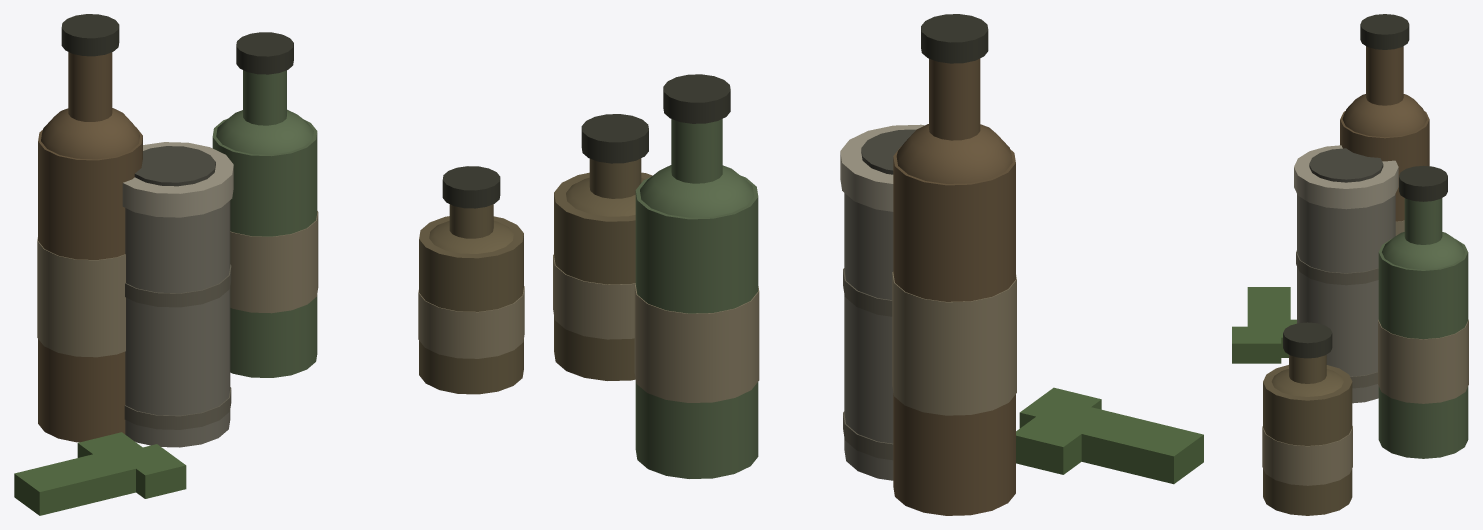
Rendered from CMU3DDecorFloorGlass4.glb.
3 views of the same model, side by side, from view 1: azimuth 30°, elevation 25°; view 2: azimuth 150°, elevation 25°; view 3: azimuth 270°, elevation 25° (orthographic). The views are drawn at different scales.
Parts seen in each view (by area): view 1: discarded bottle body (×3), dented metal can, weathered paper label (×3), broken glass shard (×3), bottle shoulder (×3), bottle mouth rim (×3), bottle neck (×3), rolled can rim, can seam (×2), dark can top; view 2: discarded bottle body (×3), weathered paper label (×3), broken glass shard (×3), dented metal can, bottle shoulder (×3), bottle mouth rim (×3), bottle neck (×3), rolled can rim, can seam (×2), dark can top; view 3: discarded bottle body (×3), dented metal can, weathered paper label (×2), bottle shoulder (×3), bottle neck (×3), bottle mouth rim (×3), broken glass shard (×3), rolled can rim, dark can top, can seam (×2).
Boxes of the visible parts, x1=… form: discarded bottle body (×3): x1=38, y1=118, x2=523, y2=442; dented metal can: x1=125, y1=200, x2=230, y2=447; weathered paper label (×3): x1=37, y1=211, x2=524, y2=358; broken glass shard (×3): x1=14, y1=432, x2=186, y2=515; bottle shoulder (×3): x1=41, y1=108, x2=513, y2=253; bottle mouth rim (×3): x1=61, y1=14, x2=500, y2=208; bottle neck (×3): x1=68, y1=52, x2=493, y2=238; rolled can rim: x1=122, y1=142, x2=233, y2=217; can seam (×2): x1=124, y1=264, x2=231, y2=429; dark can top: x1=134, y1=146, x2=215, y2=186; discarded bottle body (×3): x1=554, y1=146, x2=1015, y2=515; weathered paper label (×3): x1=553, y1=254, x2=1016, y2=415; broken glass shard (×3): x1=1016, y1=387, x2=1203, y2=484; dented metal can: x1=844, y1=193, x2=893, y2=480; bottle shoulder (×3): x1=566, y1=124, x2=1012, y2=217; bottle mouth rim (×3): x1=581, y1=14, x2=988, y2=163; bottle neck (×3): x1=589, y1=58, x2=980, y2=198; rolled can rim: x1=840, y1=124, x2=924, y2=211; can seam (×2): x1=843, y1=268, x2=893, y2=460; dark can top: x1=861, y1=129, x2=915, y2=174; discarded bottle body (×3): x1=1263, y1=111, x2=1468, y2=515; dented metal can: x1=1297, y1=194, x2=1395, y2=403; weathered paper label (×2): x1=1262, y1=319, x2=1468, y2=485; bottle shoulder (×3): x1=1271, y1=94, x2=1464, y2=396; bottle neck (×3): x1=1289, y1=46, x2=1442, y2=383; bottle mouth rim (×3): x1=1283, y1=14, x2=1447, y2=358; broken glass shard (×3): x1=1232, y1=287, x2=1296, y2=363; rolled can rim: x1=1294, y1=145, x2=1398, y2=209; dark can top: x1=1309, y1=148, x2=1383, y2=182; can seam (×2): x1=1296, y1=250, x2=1378, y2=388.
Size of the model in its own units: 0.746 by 0.5526 by 0.3517.
